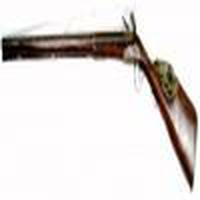gun: (1, 21, 200, 142)
